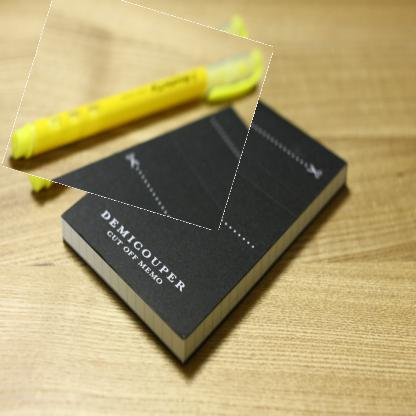Pen: (14, 0, 264, 217)
